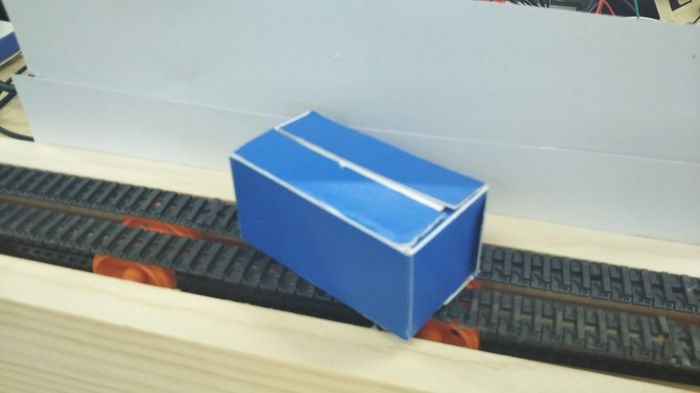box3: (226, 105, 490, 342)
